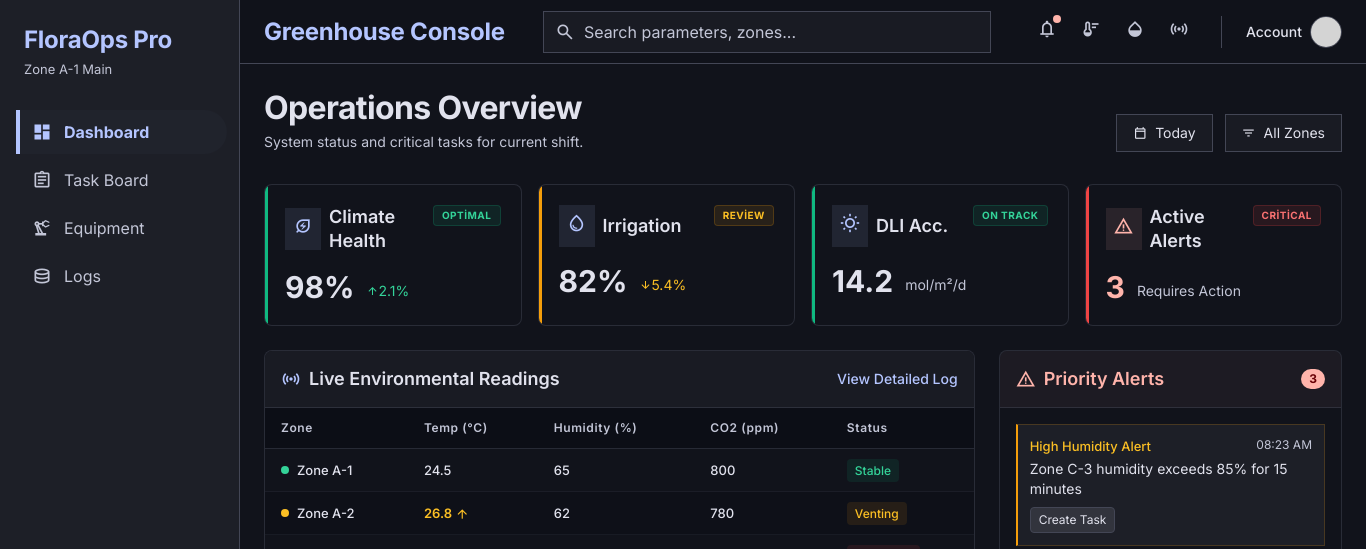
Test: App Shell › navigates to Equipment when clicked
Click the text "Equipment" at (104, 228), box [64,216,145,240]
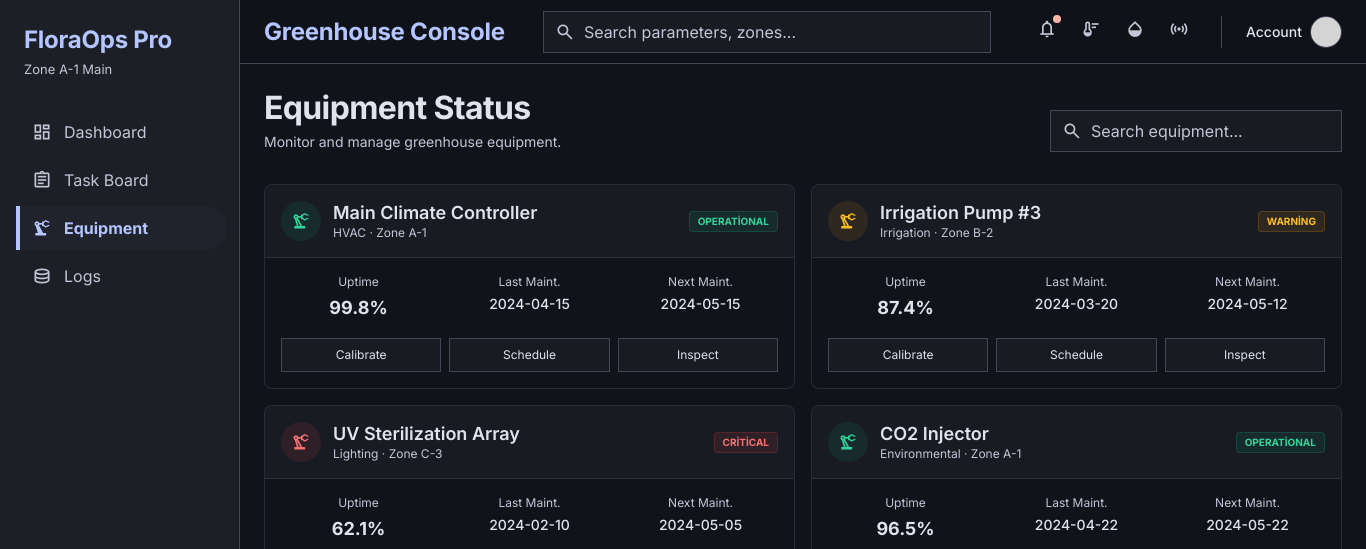
expect the heading "Equipment Status" is shown: met, box [264,88,561,128]
